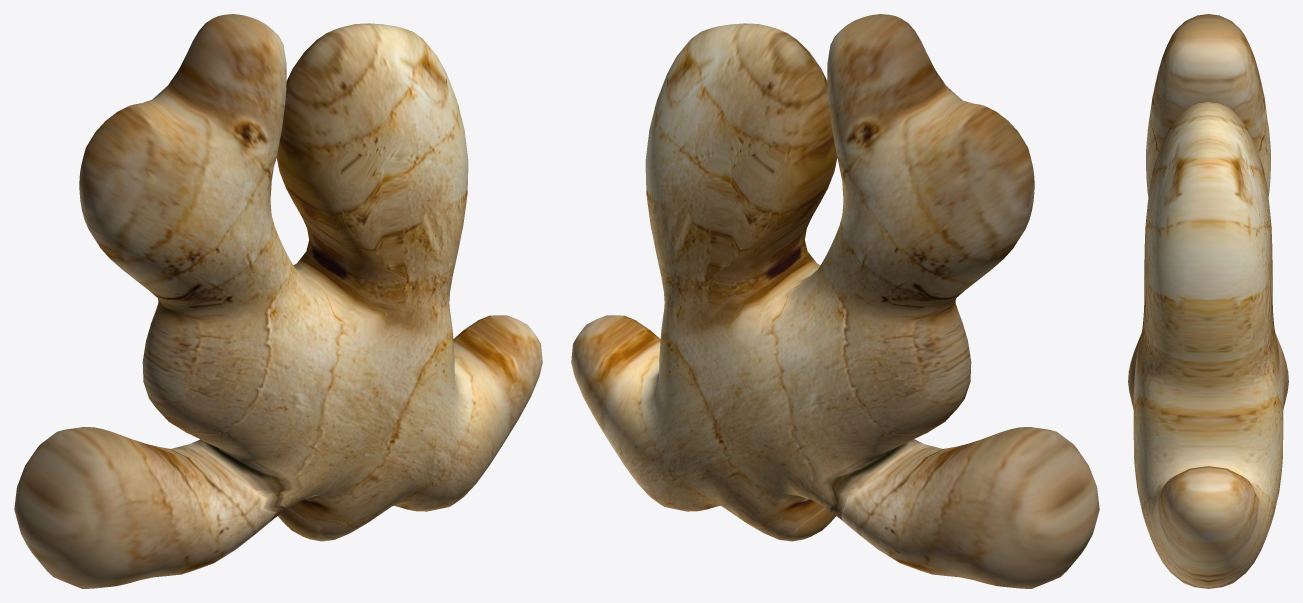
The model's file is jahe_s1.glb.
The picture shows the model from 3 angles, left to right: view 1: azimuth 30°, elevation 25°; view 2: azimuth 150°, elevation 25°; view 3: azimuth 270°, elevation 25°; orthographic projection. The views are drawn at different scales.
Parts seen in each view (by area): view 1: Cube; view 2: Cube; view 3: Cube.
Part boxes in pixels (x1,y1,x2,y2): Cube: [14, 14, 542, 588]; Cube: [571, 14, 1099, 588]; Cube: [1128, 14, 1288, 588].
Size of the model in its own units: 0.1617 by 0.1626 by 0.0494.
Materials: 1 (1 with a texture image).
